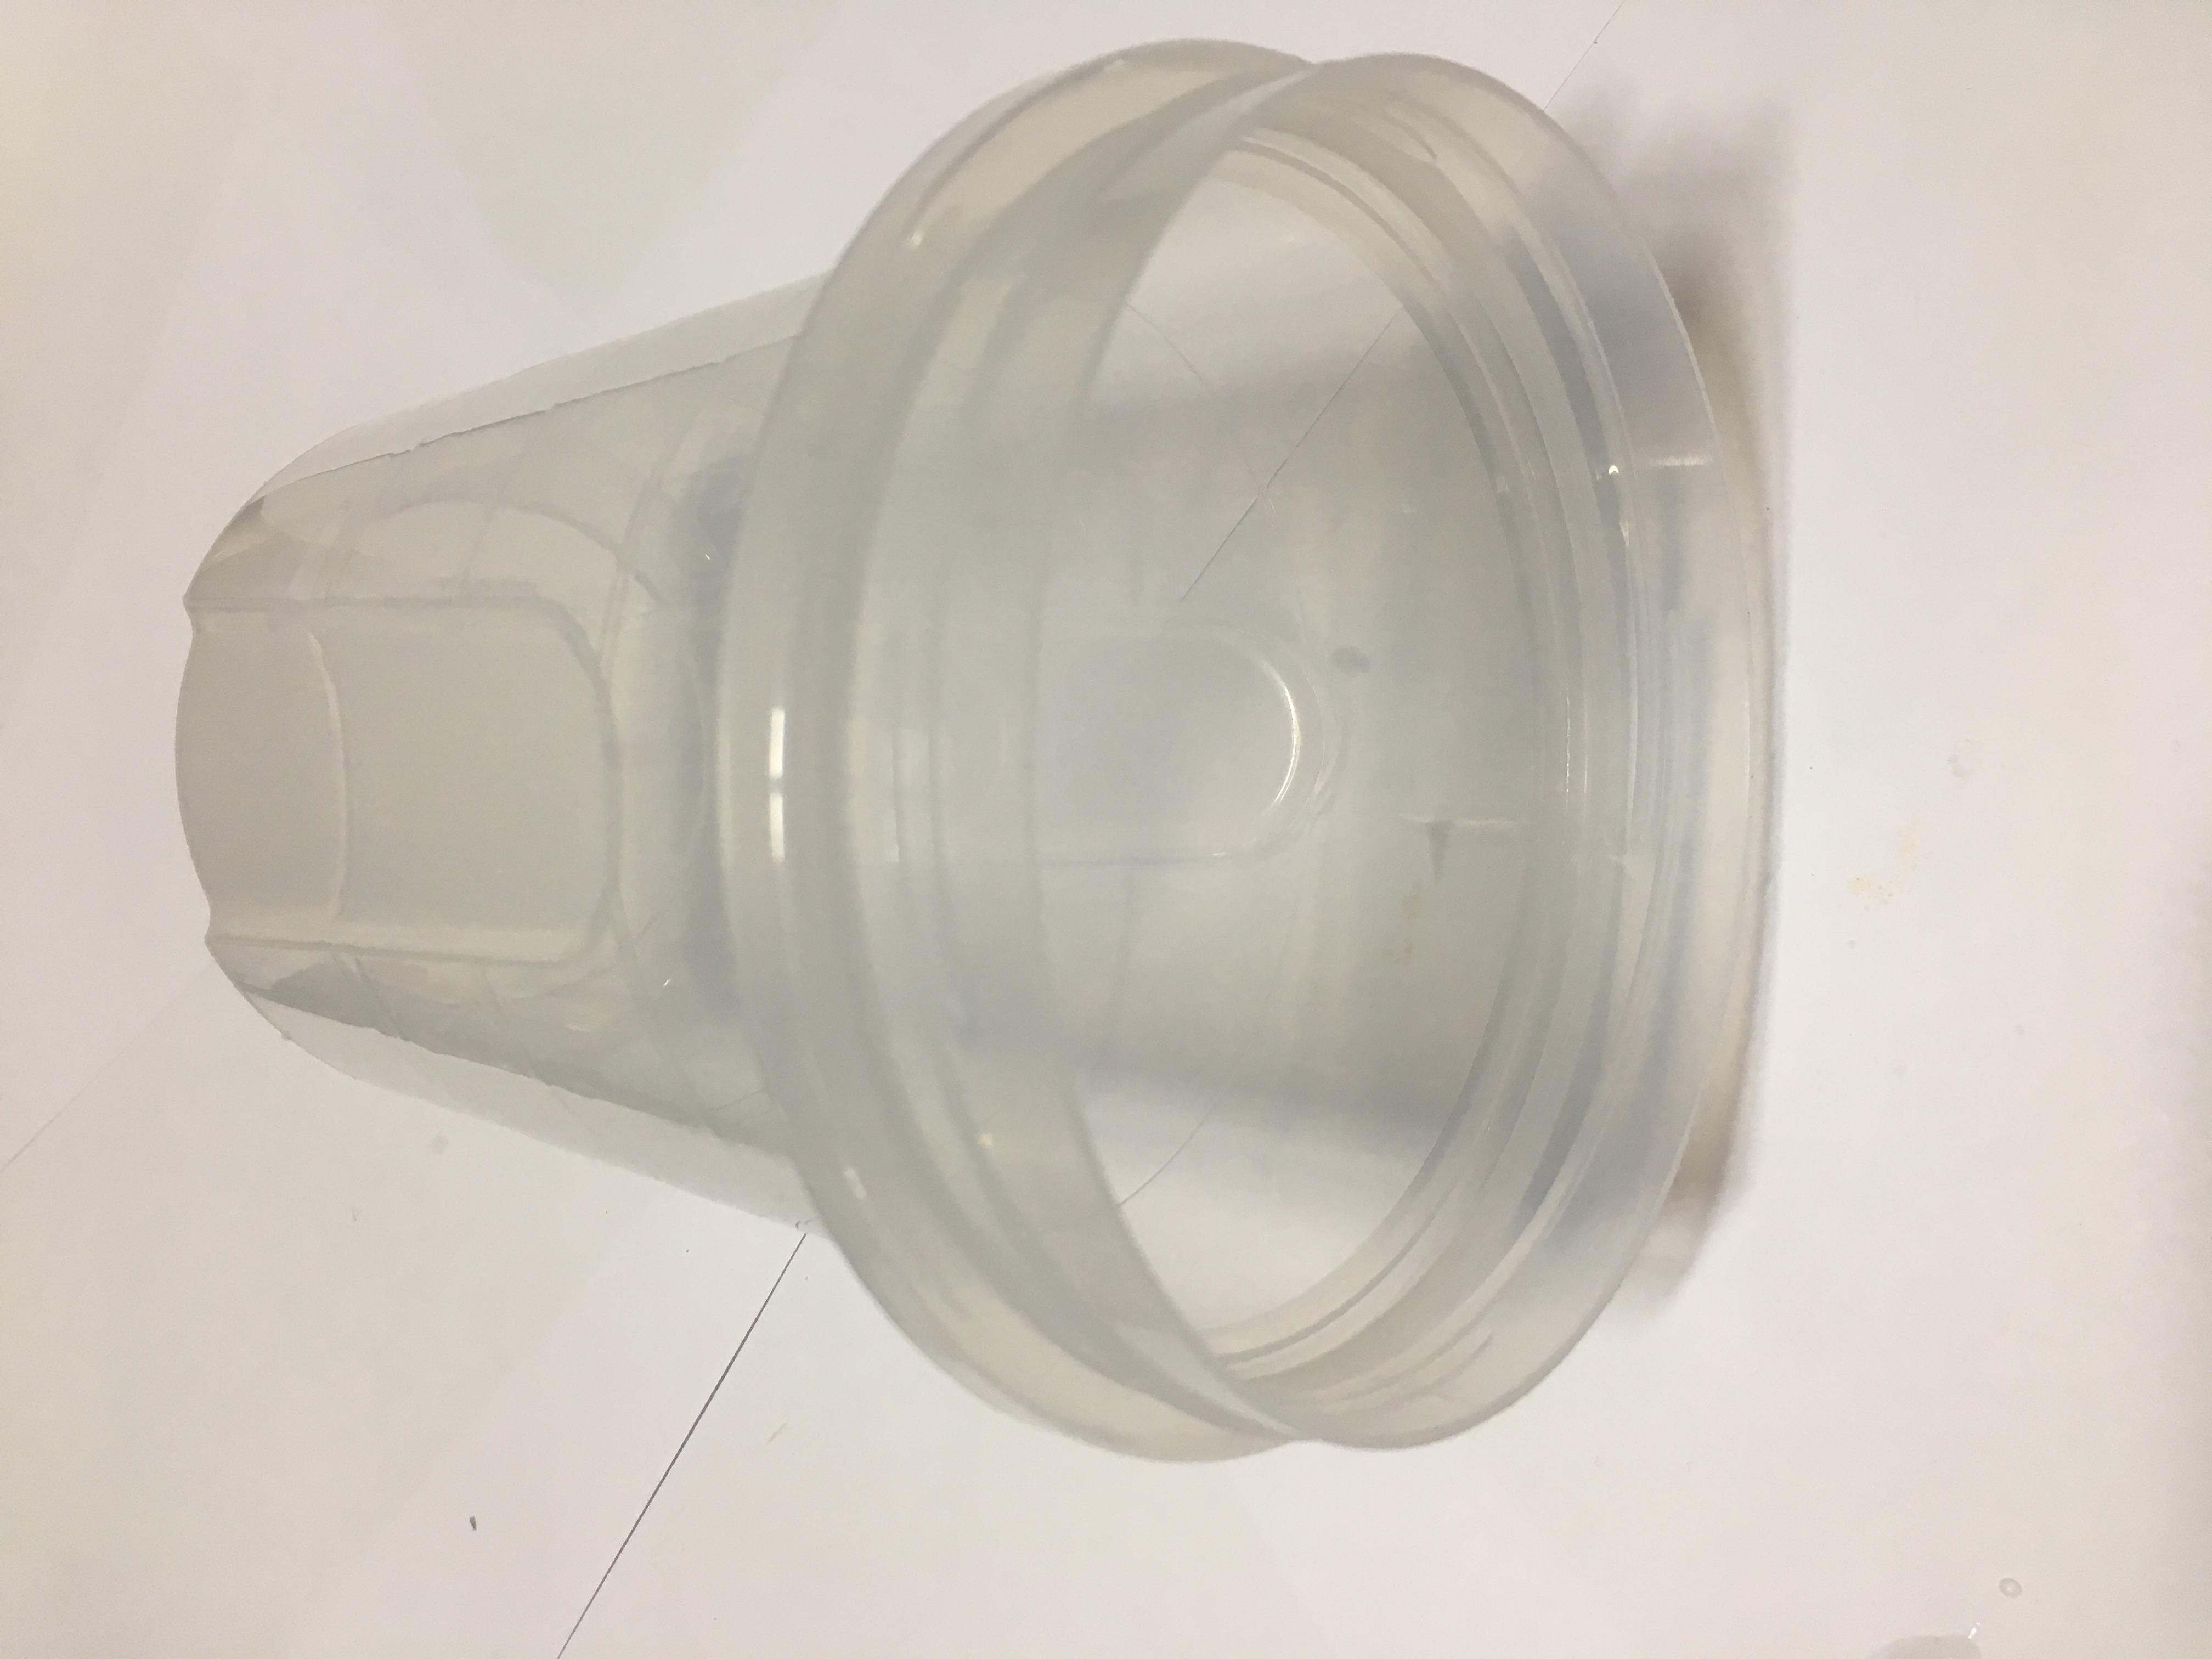bottle: (1223, 96, 1270, 1333)
